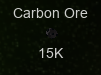Carbon: (12, 6, 89, 62)
